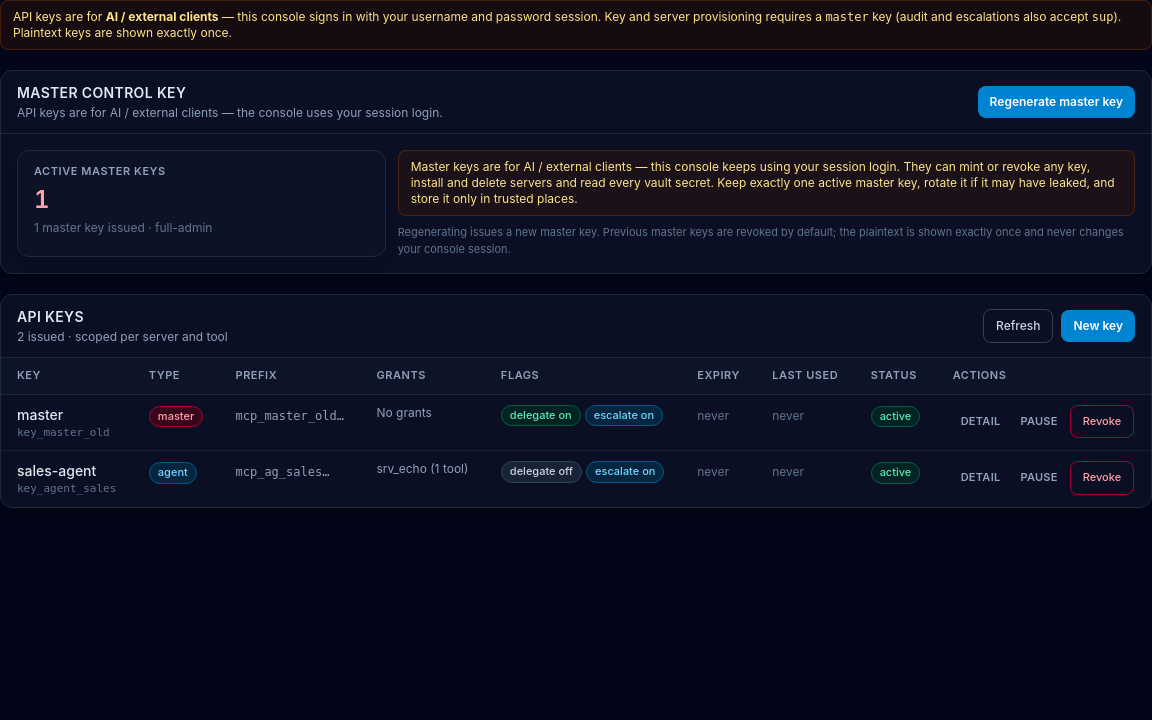
Test: RbacPage — master control key › shows the API error inline, keeps the old key and never reveals a plaintext
Expected: the button "sales-agent" is shown, [17, 461, 96, 481]
Step 1. Click the button "Regenerate master key" → (1056, 102), box [978, 86, 1135, 118]
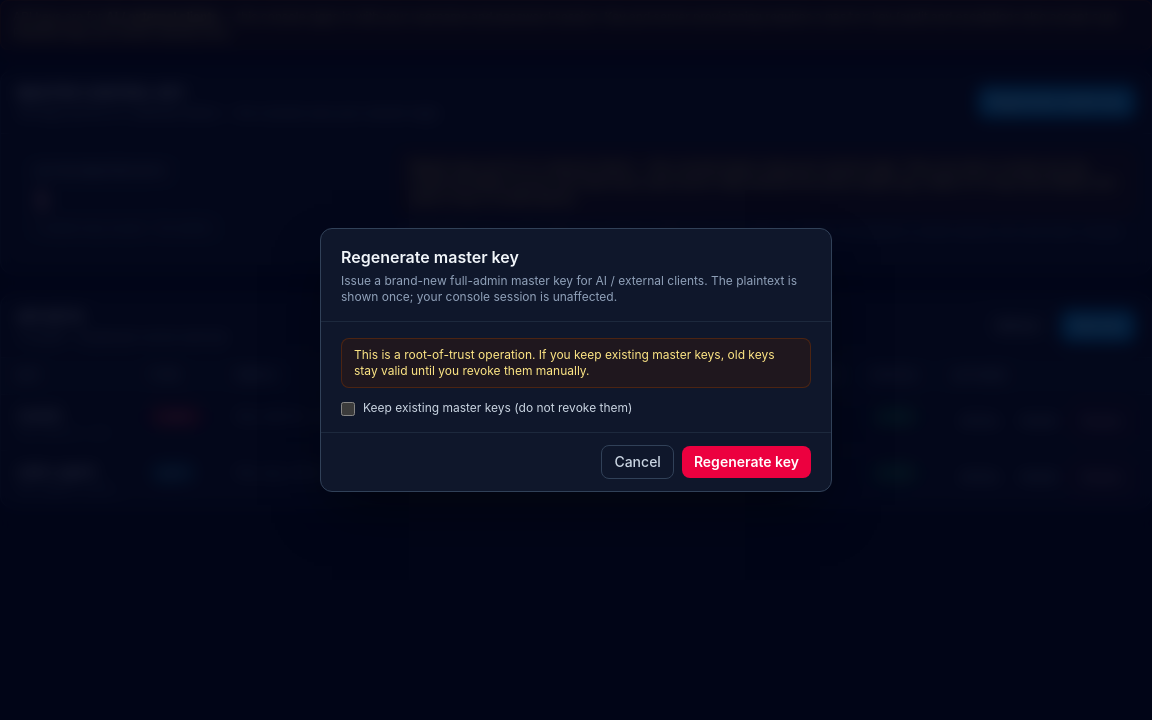
Step 2. Click the button "Regenerate key" → (746, 462), box [682, 446, 811, 478]
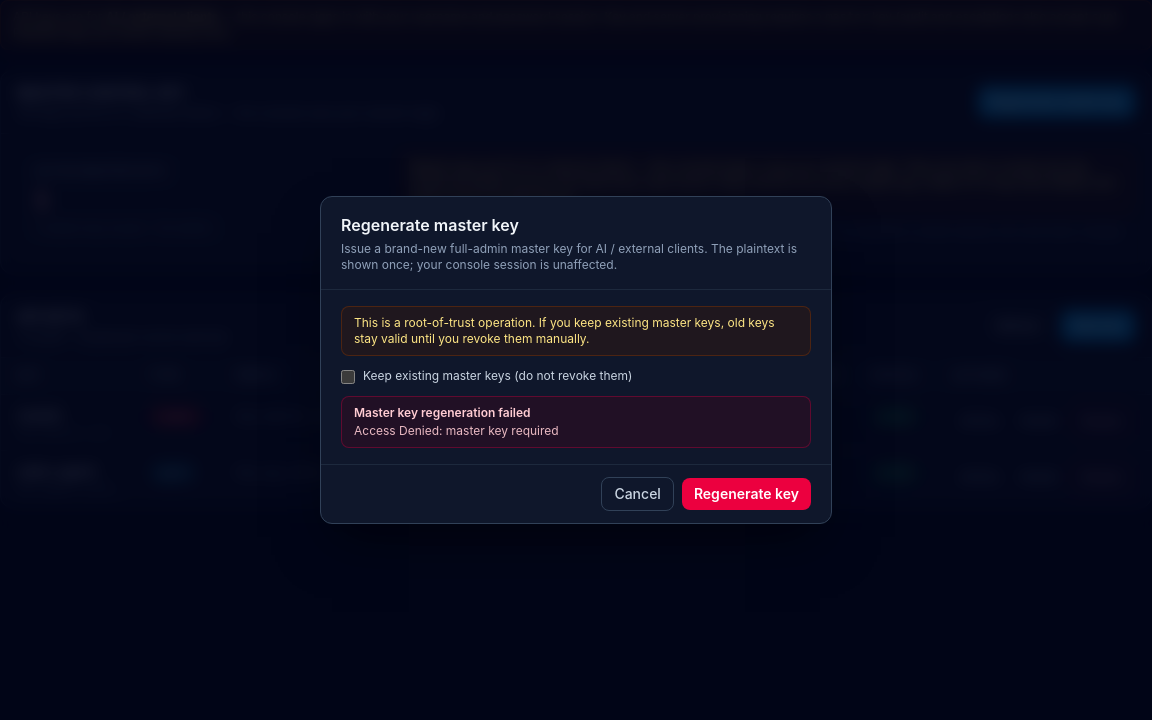
Result: the dialog "Regenerate master key" is shown at [320, 196, 832, 524]
Result: the text "Access Denied: master key required" is shown at [354, 423, 559, 439]
